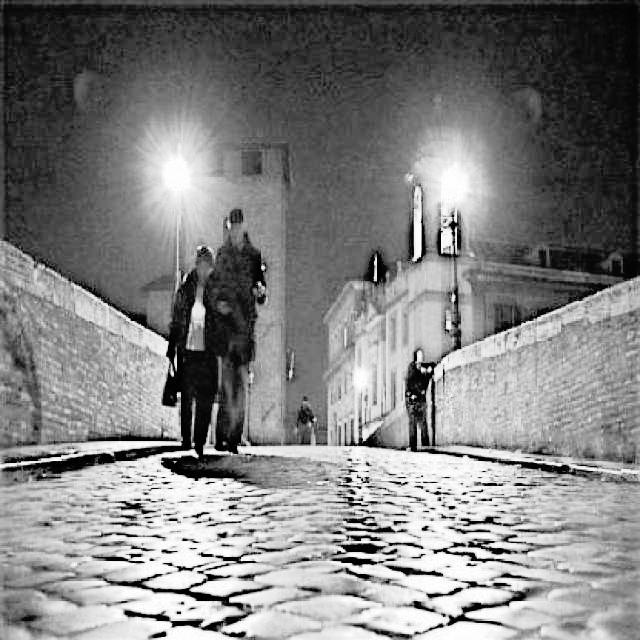Person: (203, 204, 269, 455), (166, 242, 217, 451), (405, 345, 428, 447)
